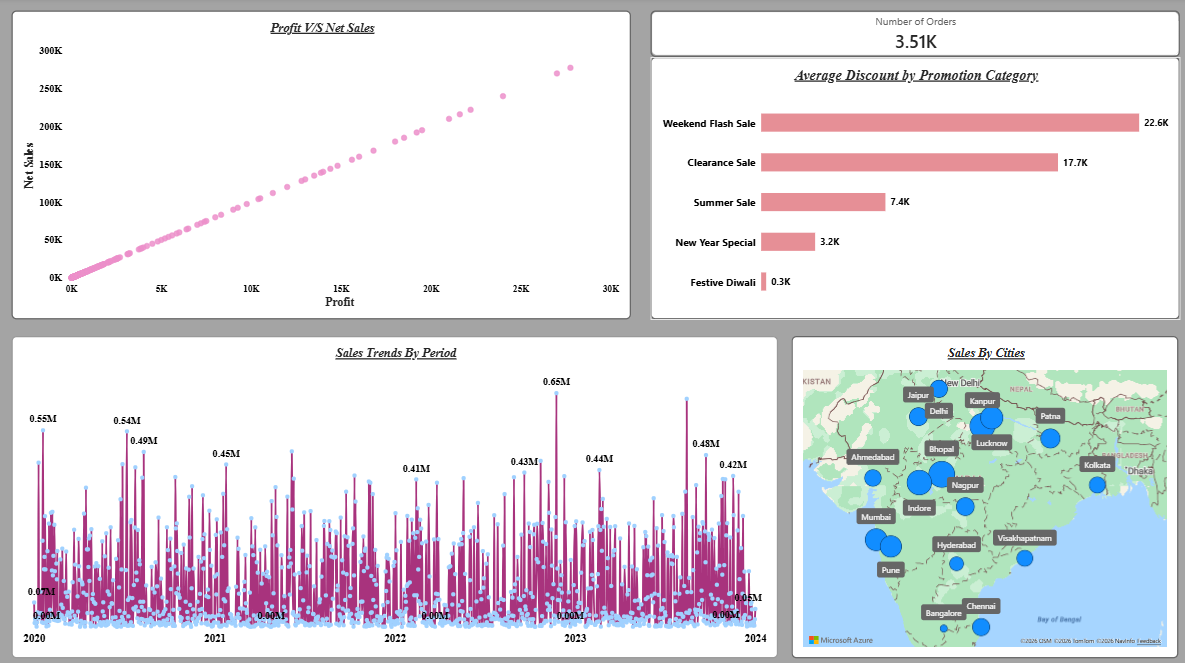

The dashboard page shown, as its layout file describes it:
{"tool":"powerbi","page":{"name":"Overview","canvas":[1920,1080],"ordinal":0},"visuals":[{"type":"lineChart","title":"Sales Trends By Period","fields":{"Category":["Fact Table.Date (dd/mm/yyyy).Variation.Date Hierarchy.Year"],"Y":["Sum(Fact Table.Net Sales  )"]},"box":[26,64,964,428],"z":0},{"type":"scatterChart","title":"Profit V/S Net Sales  ","fields":{"X":["Fact Table.Profit"],"Y":["Fact Table.Net Sales  "]},"box":[26,540,933.3,512.5],"z":1000},{"type":"barChart","title":"Average Discount by Promotion Category","fields":{"Category":["Dim Promotion.Promotion Name"],"Y":["Avg(Fact Table.Discount)"]},"box":[1288,64,618,428],"z":2000},{"type":"azureMap","title":"Sales By Cities  ","fields":{"Category":["Dim Customers.City"],"Size":["Sum(Fact Table.Net Sales  )"]},"box":[1223.3,540,684,513],"z":3000},{"type":"cardVisual","fields":{"Data":["CountNonNull(Fact Table.order id)"]},"box":[1020,128,232,174],"z":4000}]}

Visuals, with their boxes in screenshot pixels (x1, y1, x2, y2), scaled from the page's 1920x1080 canvas onto the 1185x663 screenshot:
"Sales Trends By Period" lineChart: <bbox>16, 39, 611, 302</bbox>
"Profit V/S Net Sales  " scatterChart: <bbox>16, 332, 592, 646</bbox>
"Average Discount by Promotion Category" barChart: <bbox>795, 39, 1176, 302</bbox>
"Sales By Cities  " azureMap: <bbox>755, 332, 1177, 646</bbox>
cardVisual - CountNonNull(Fact Table.order id): <bbox>630, 79, 773, 185</bbox>
